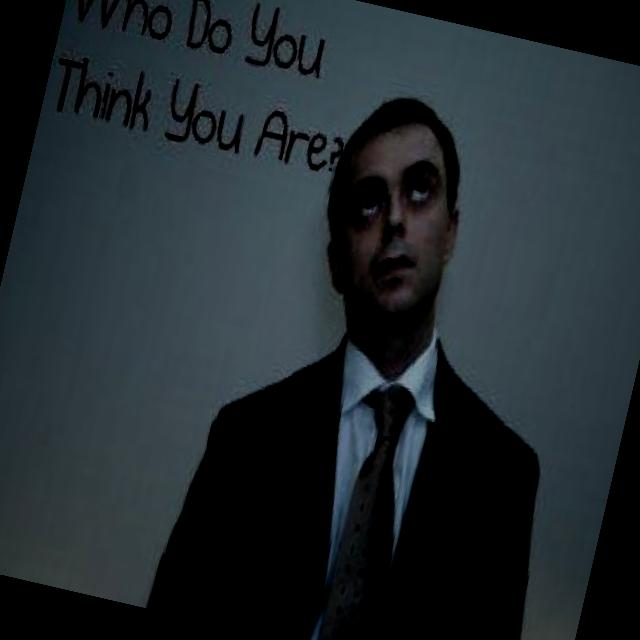Person: (140, 57, 638, 640)
